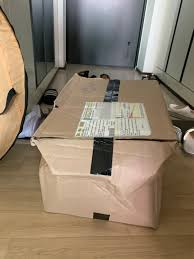damaged package: (91, 162, 156, 213), (54, 71, 88, 110), (29, 141, 55, 179)
